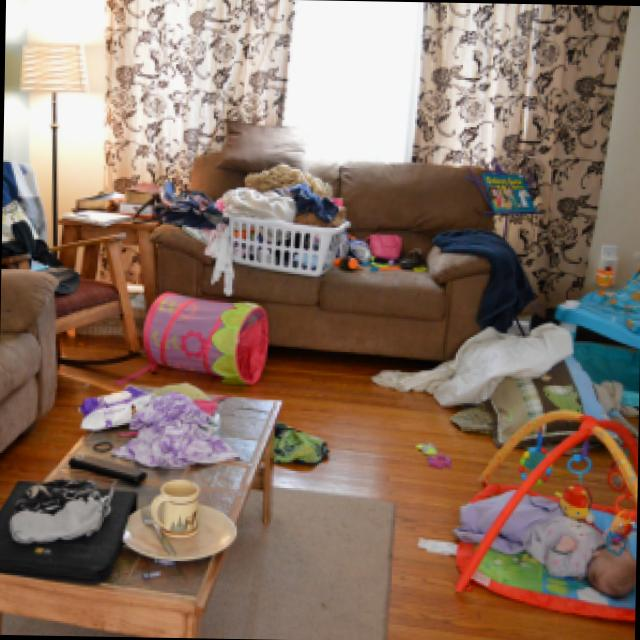mess: (147, 147, 526, 318), (47, 360, 263, 639), (352, 341, 640, 419), (277, 411, 454, 530), (2, 455, 90, 636), (81, 162, 170, 282), (556, 265, 640, 379)
